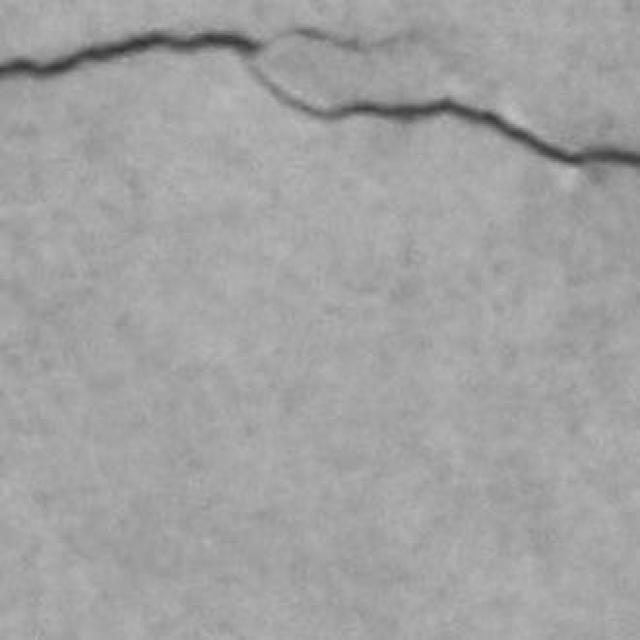crack: (0, 30, 639, 168), (0, 32, 265, 79)
